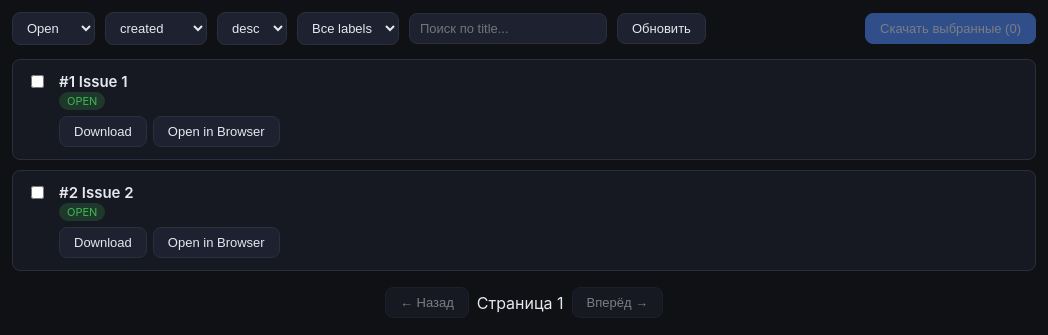
Scenario: closing the list › Escape closes without creating a filter and without clearing the issue selection
Type "!dep#log" into the field with placeholder "Поиск по title..." at (508, 28), box [409,13,607,44]
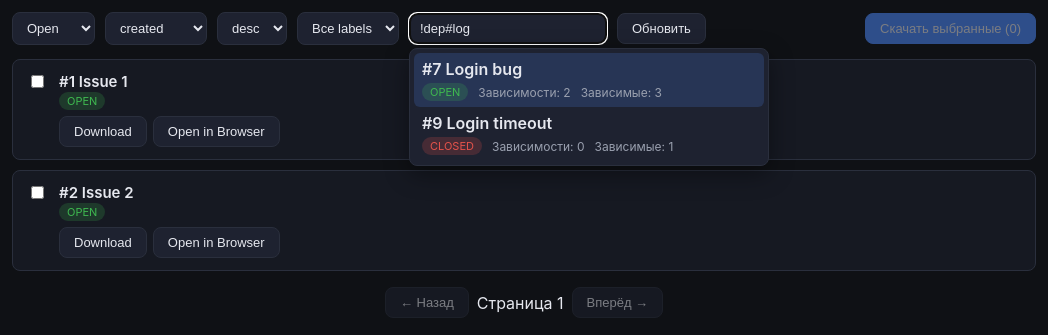
Now the option "#7 Login bug open Зависимости: 2 Зависимые: 3" is shown, box [414,53,764,107]
Click the checkbox in the row of "Issue 1" at (38, 82), box [31,75,44,88]
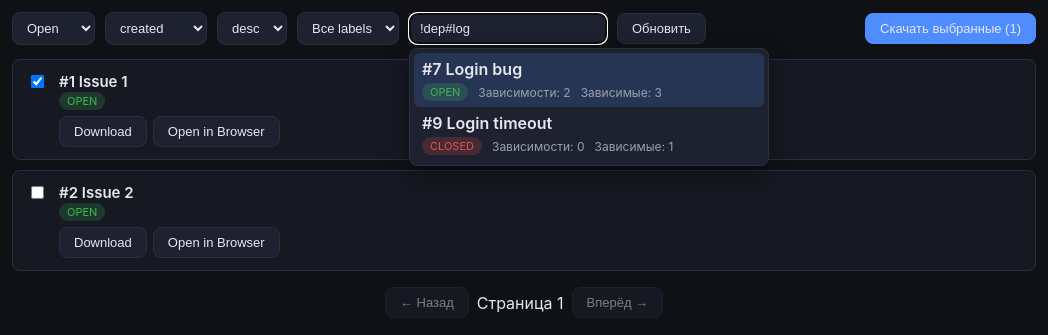
Now the checkbox in the row of "Issue 1" is checked, box [31,75,44,88]
Press Escape
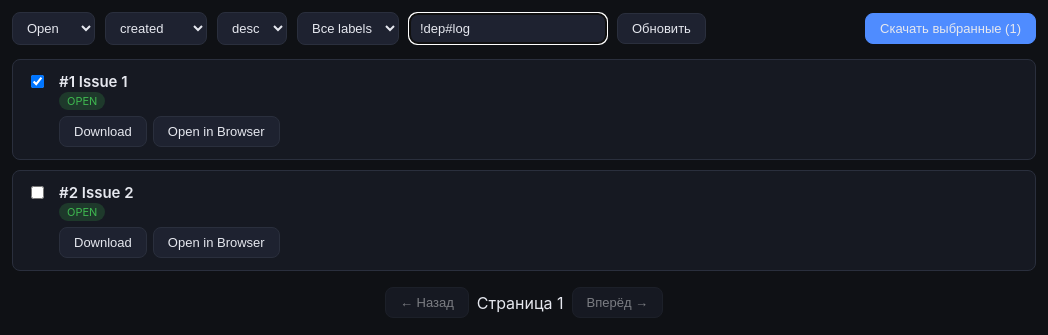
Now the checkbox in the row of "Issue 1" is checked, box [31,75,44,88]
Now the list "Автодополнение" is gone
